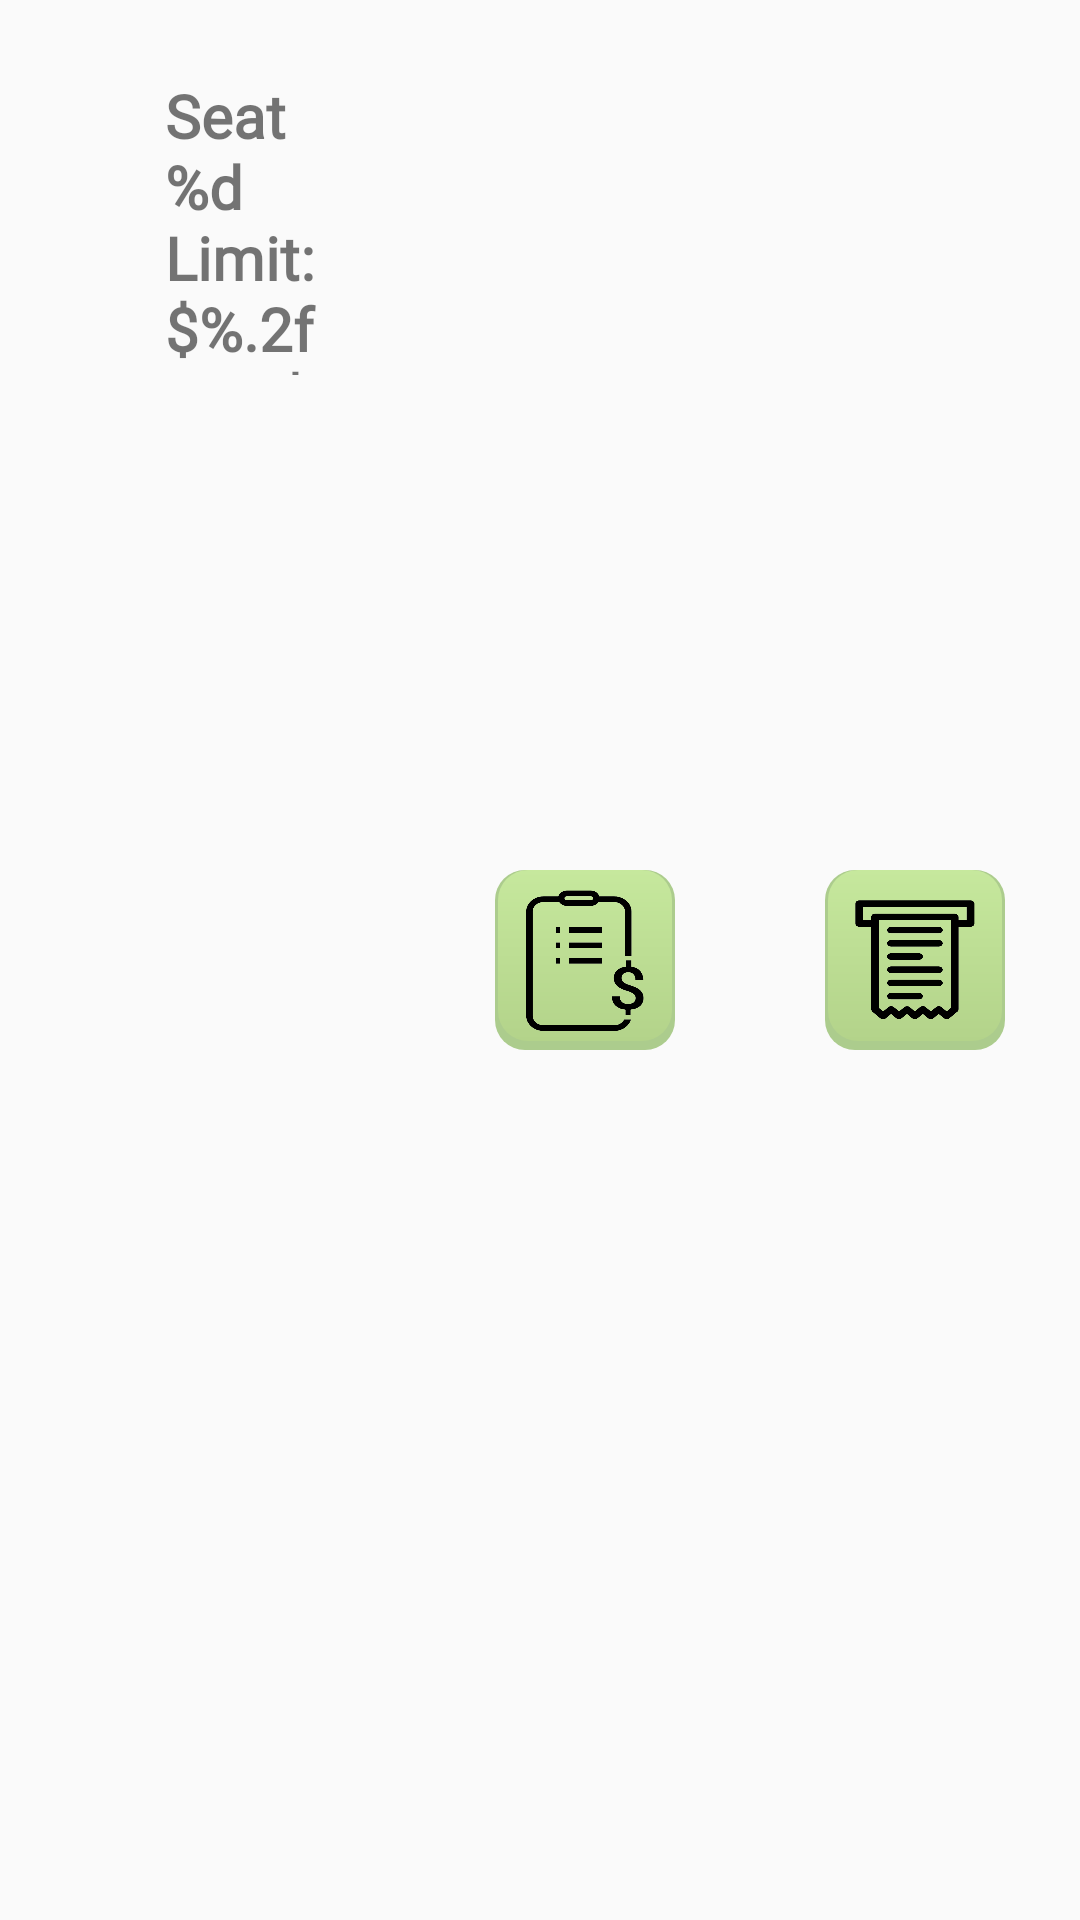

Icon bounding boxes for this 1080 x 1920 phone screenshot, format region(x1, y1, x2, y2):
editlimit: region(495, 870, 675, 1050)
sendbill: region(825, 870, 1005, 1050)
